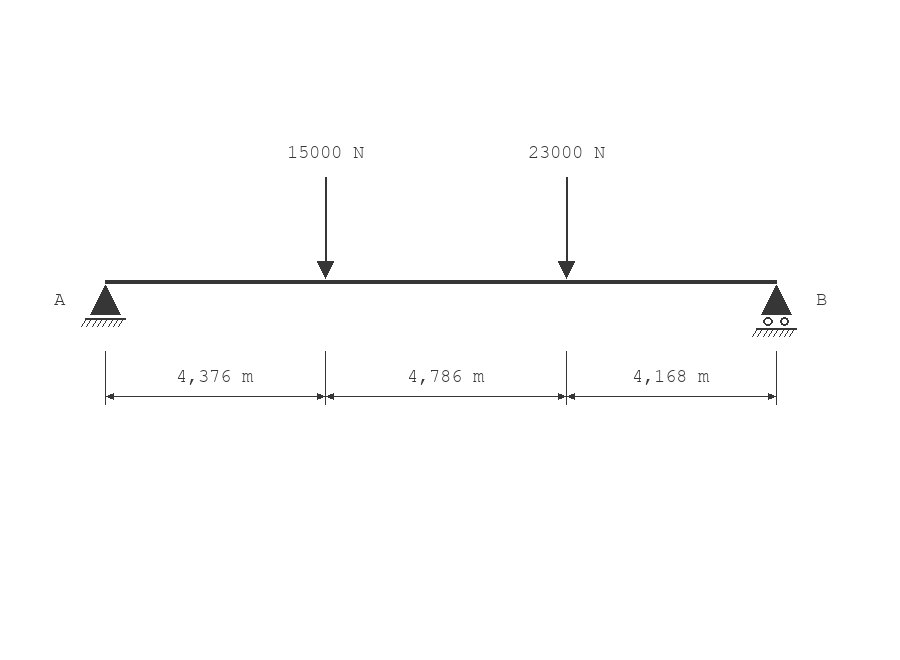pin_support: (81, 285, 126, 327)
point_load: (317, 177, 334, 279), (558, 177, 575, 279)
roller_support: (752, 285, 797, 337)
